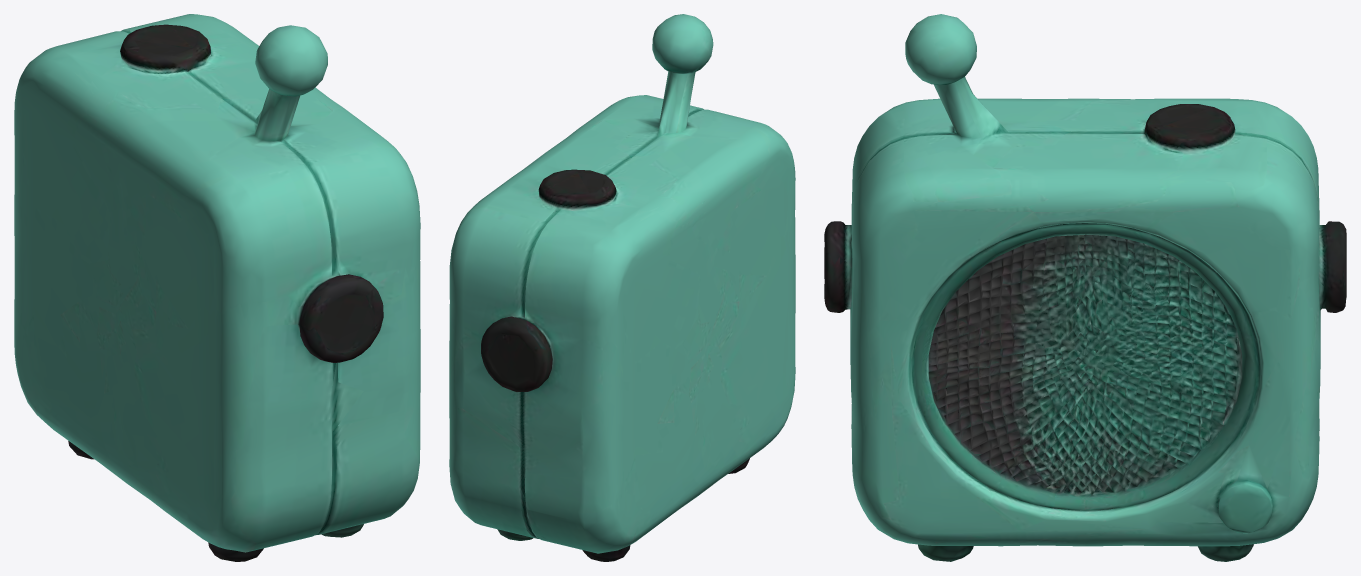
File: radio.glb
The picture shows the model from 3 angles, left to right: view 1: azimuth 30°, elevation 25°; view 2: azimuth 150°, elevation 25°; view 3: azimuth 270°, elevation 25°; orthographic projection. The views are drawn at different scales.
Visible parts, largest first — view 1: tripo_node_e8d03782-8390-4632-8f61-9ae1b9cc876e; view 2: tripo_node_e8d03782-8390-4632-8f61-9ae1b9cc876e; view 3: tripo_node_e8d03782-8390-4632-8f61-9ae1b9cc876e.
Part boxes in pixels (left/top/right/bottom): tripo_node_e8d03782-8390-4632-8f61-9ae1b9cc876e: left=14, top=14, right=420, bottom=561; tripo_node_e8d03782-8390-4632-8f61-9ae1b9cc876e: left=449, top=14, right=795, bottom=561; tripo_node_e8d03782-8390-4632-8f61-9ae1b9cc876e: left=824, top=14, right=1346, bottom=561.
Size of the model in its own units: 0.4232 by 1 by 0.9203.
1 material, 1 textured.
